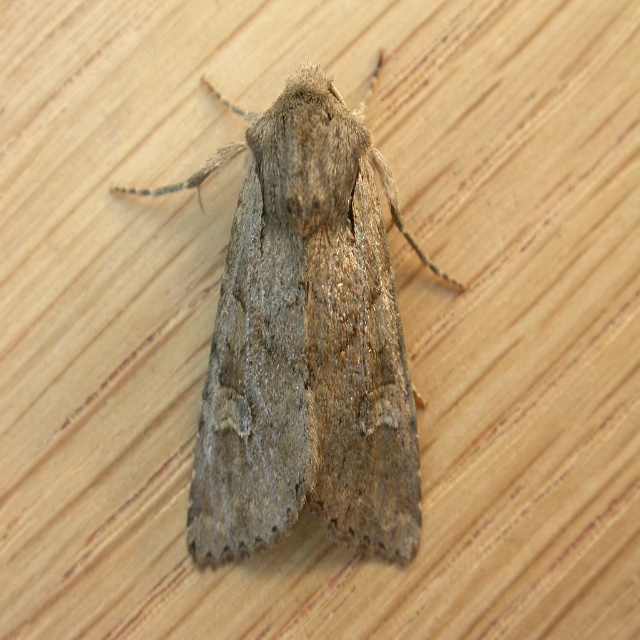Moths and butterflies: (108, 43, 472, 569)
